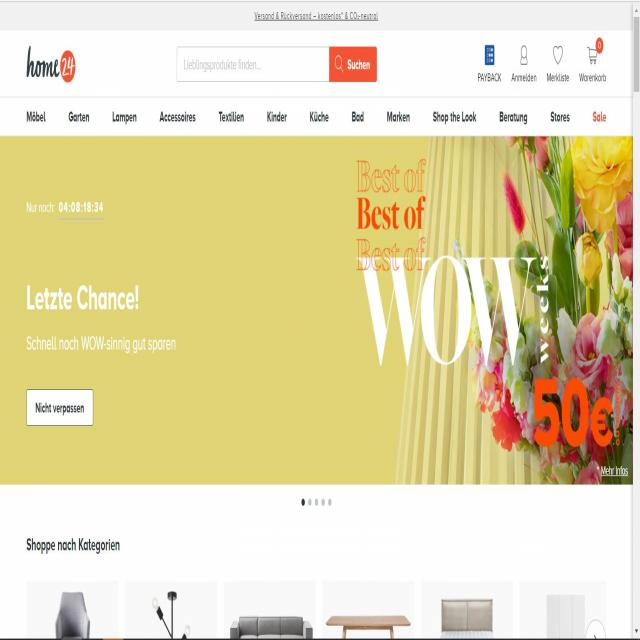button: (27, 388, 94, 428), (330, 44, 377, 82)
input: (176, 44, 329, 82)
